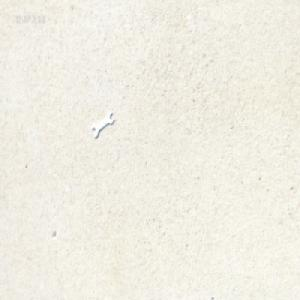Wrench: (91, 110, 113, 138)
